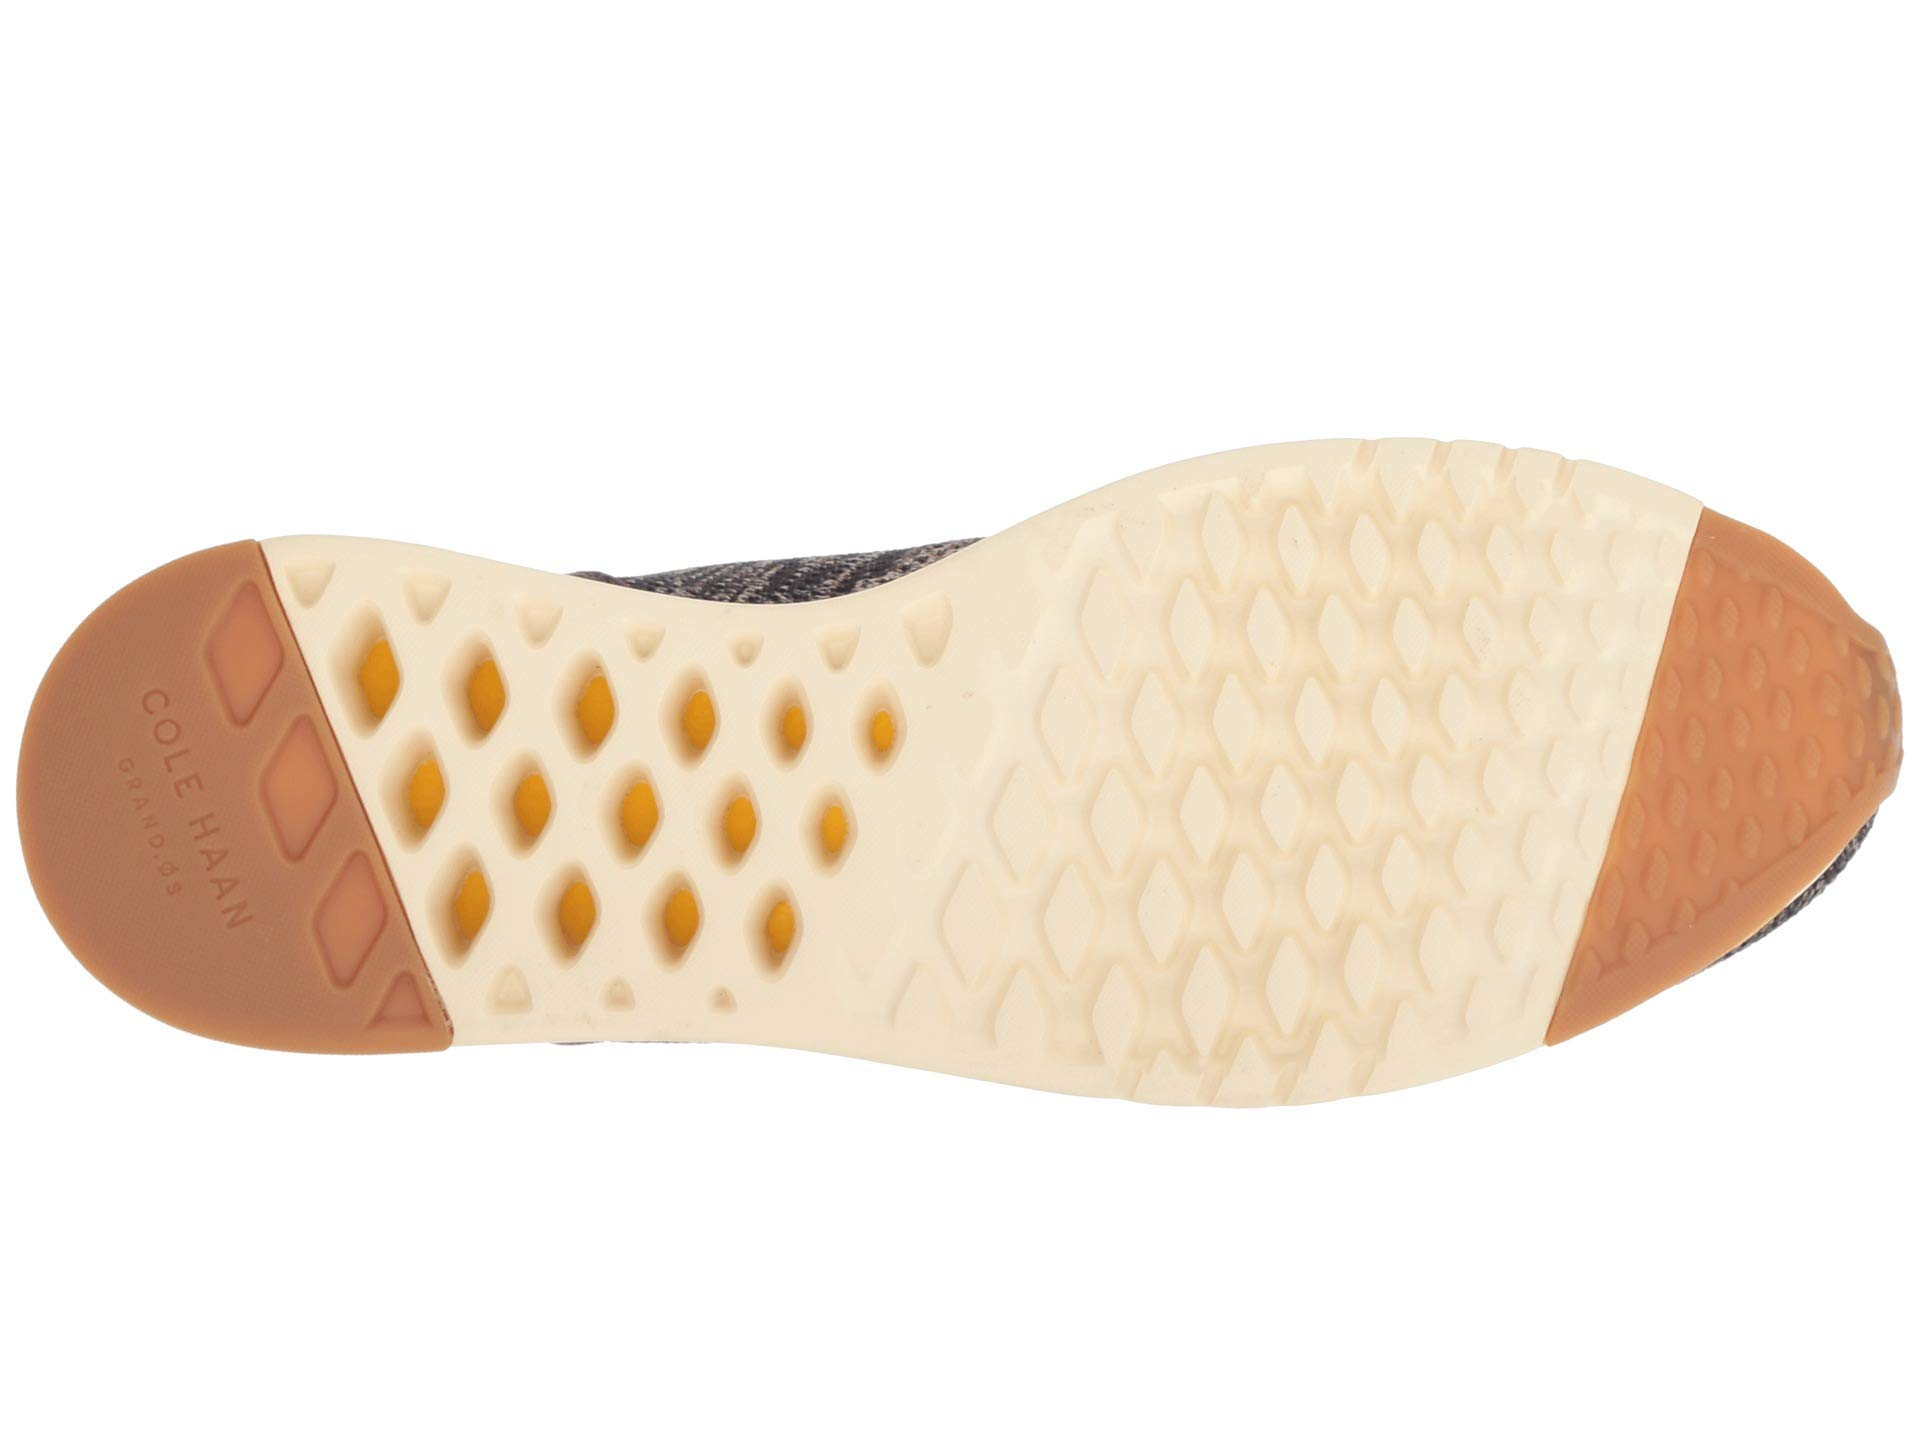circle: (76, 638, 349, 967)
quad: (426, 626, 862, 1018), (1128, 552, 1473, 971), (76, 638, 349, 967)
text: (76, 638, 349, 967)
